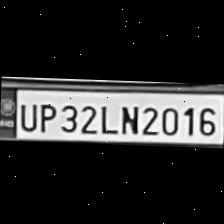0: (157, 103, 179, 135)
1: (178, 102, 196, 135)
2: (77, 100, 97, 134), (138, 103, 158, 136)
3: (56, 100, 78, 134)
6: (195, 103, 217, 136)
L: (96, 100, 116, 134)
N: (117, 102, 139, 135)
P: (34, 100, 54, 133)
U: (16, 98, 36, 132)
